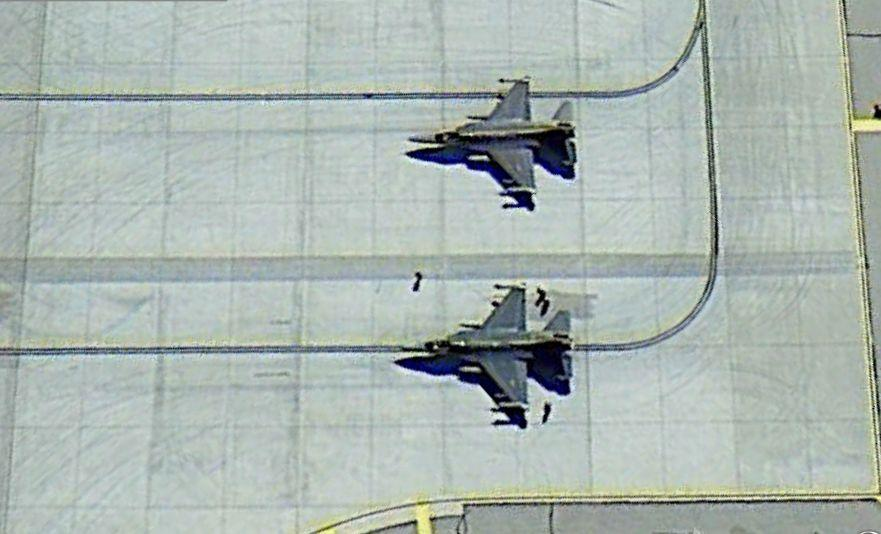F-16: (397, 75, 580, 205), (402, 280, 574, 415)
